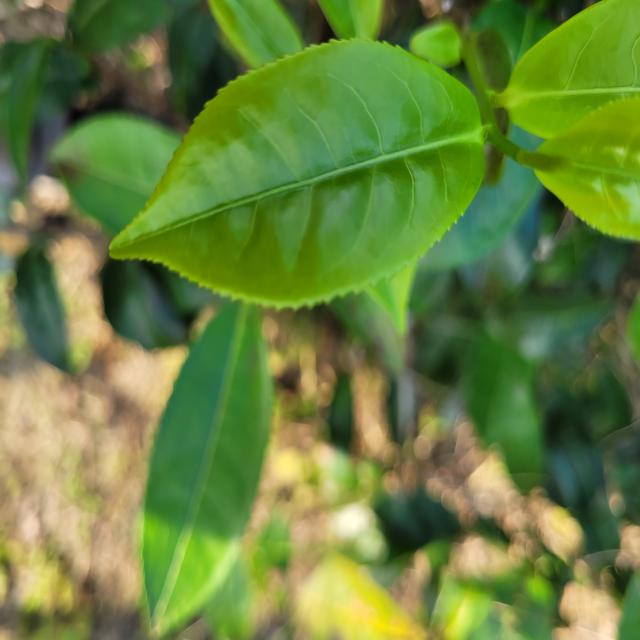Category B(2-4 days): (90, 10, 510, 348)
